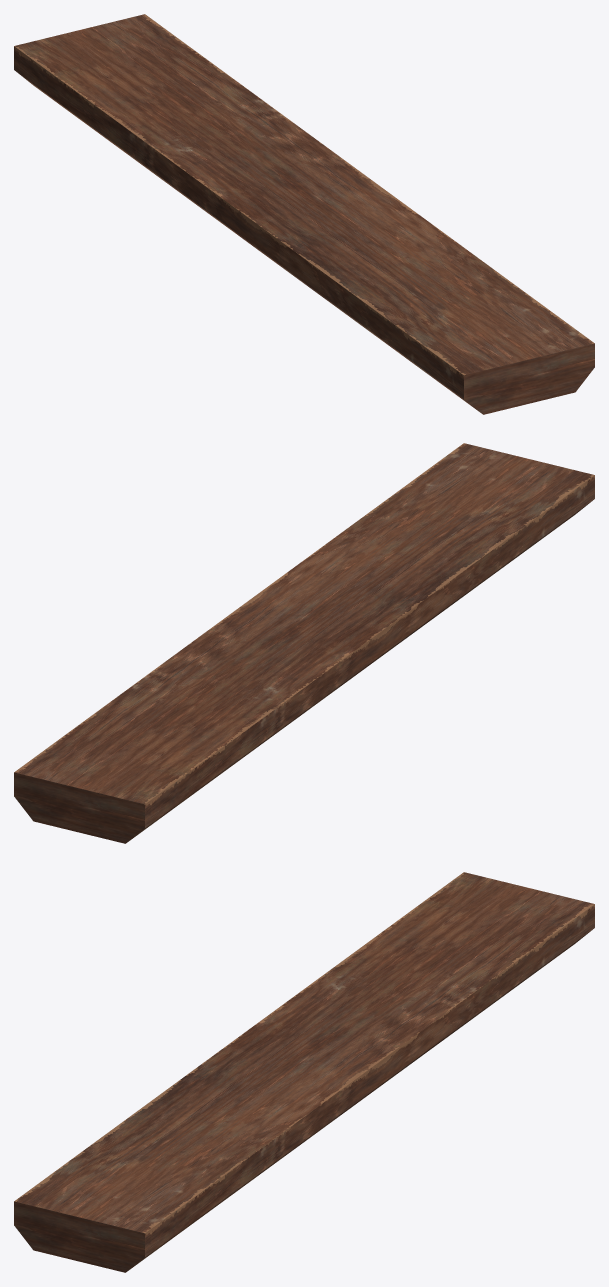
File: Kit_WoodenPlank.fbx
3 views of the same model, one above another, from view 1: azimuth 30°, elevation 25°; view 2: azimuth 150°, elevation 25°; view 3: azimuth 330°, elevation 25° (orthographic).
Parts seen in each view (by area): view 1: Kit_WoodenPlank; view 2: Kit_WoodenPlank; view 3: Kit_WoodenPlank.
Part boxes in pixels (<box>): Kit_WoodenPlank: <box>14,14,594,414</box>; Kit_WoodenPlank: <box>14,443,594,843</box>; Kit_WoodenPlank: <box>14,872,594,1272</box>.
Bounding box in the file's own units: 26.48 × 8.54 × 157.
